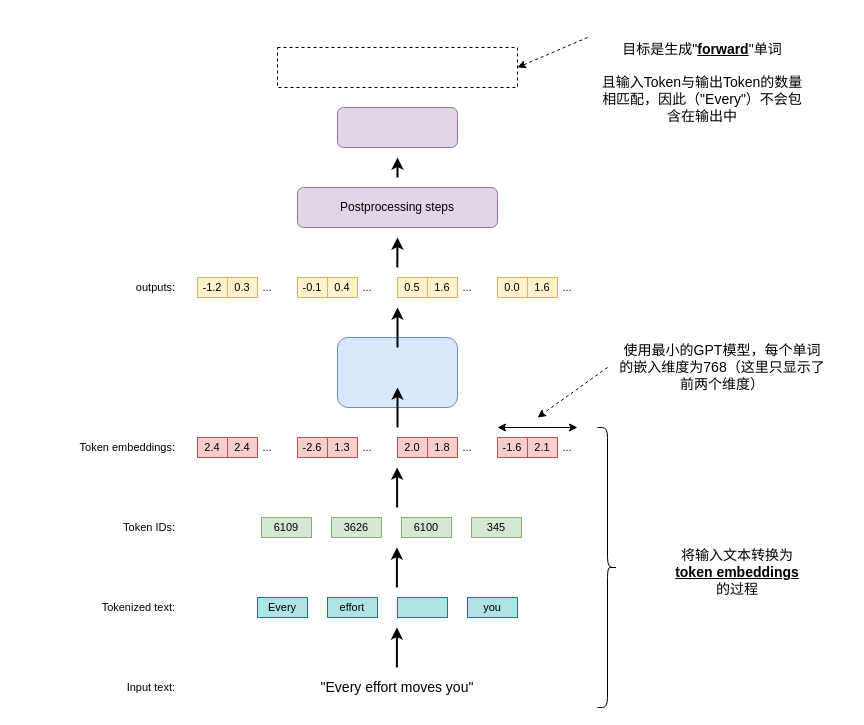
The diagram is 864 pixels wide and 725 high, and some of its shapes have lost their labels. The shapes that lost their labels are listed below. From the top down, each one's centre as x and y in pixels, then its label:
pixel 397 67: "effort moves you forward "
pixel 397 127: Output text
pixel 397 372: GPT Model
pixel 422 607: moves
